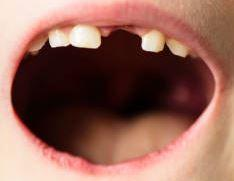Hypodontia: (97, 20, 147, 48)
